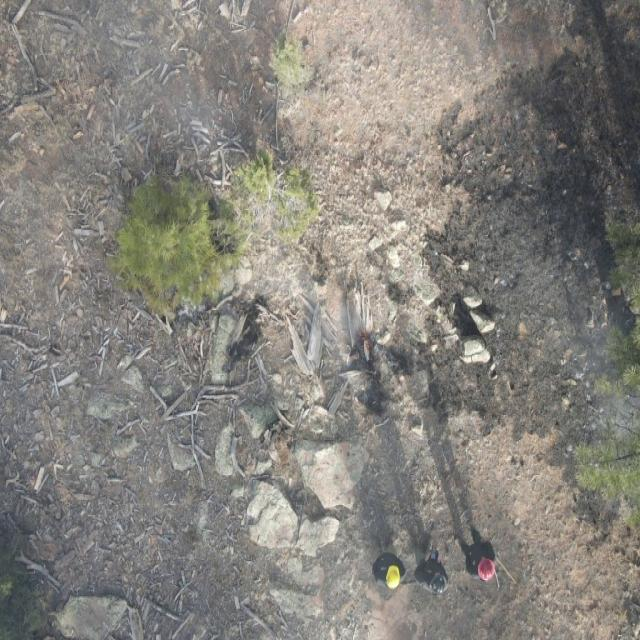fire: (358, 323, 376, 357)
smoke: (0, 0, 343, 640), (342, 266, 636, 450)
